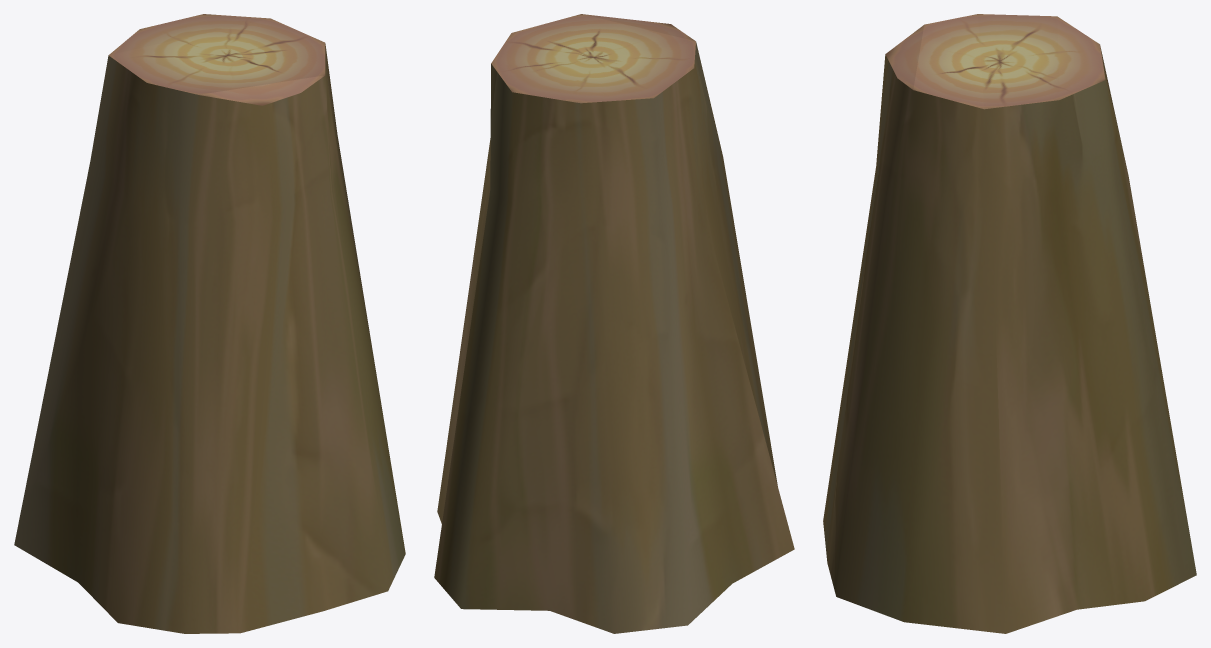
Rendered from m_env_collect_tree_cedar_stump_02_v1_lod1.fbx.
The picture shows the model from 3 angles, left to right: view 1: azimuth 30°, elevation 25°; view 2: azimuth 150°, elevation 25°; view 3: azimuth 270°, elevation 25°; orthographic projection.
Parts seen in each view (by area): view 1: m_env_collect_tree_cedar_stump_02_v1_lod1; view 2: m_env_collect_tree_cedar_stump_02_v1_lod1; view 3: m_env_collect_tree_cedar_stump_02_v1_lod1.
Boxes of the visible parts, <box> form: m_env_collect_tree_cedar_stump_02_v1_lod1: <box>14,14,405,633</box>; m_env_collect_tree_cedar_stump_02_v1_lod1: <box>434,14,794,633</box>; m_env_collect_tree_cedar_stump_02_v1_lod1: <box>823,14,1196,633</box>.
Bounding box in the file's own units: 60.21 × 92.44 × 62.47.
